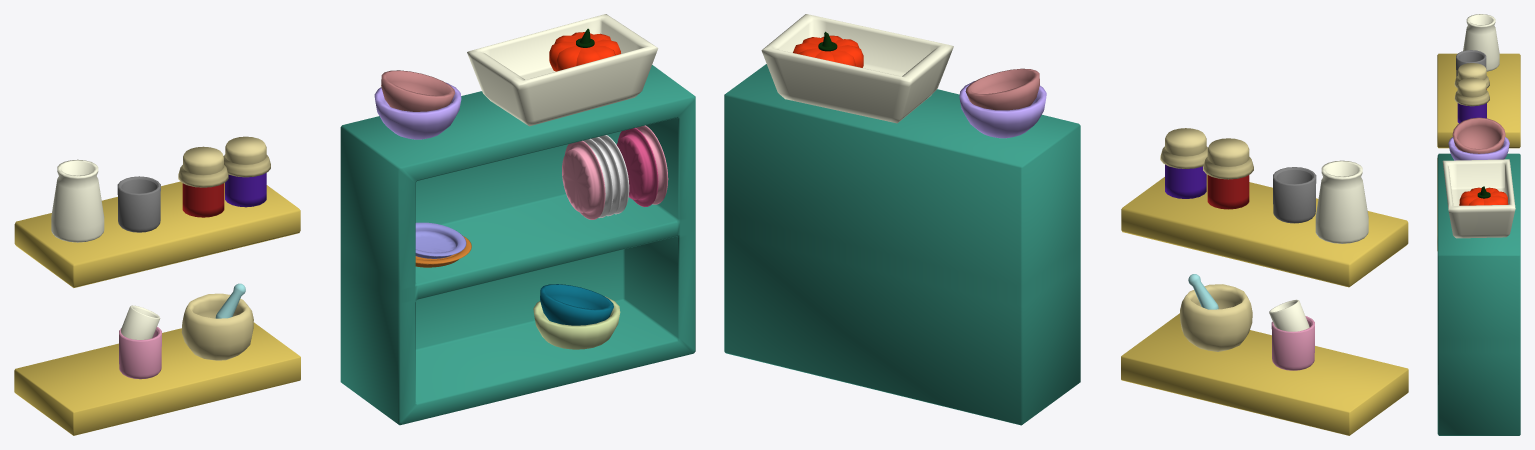
Rendered from wall cupboard.fbx.
The picture shows the model from 3 angles, left to right: view 1: azimuth 30°, elevation 25°; view 2: azimuth 150°, elevation 25°; view 3: azimuth 270°, elevation 25°; orthographic projection. The views are drawn at different scales.
Visible parts, largest first — view 1: Box014, Box008, Box001, Box103, Cylinder017, Cylinder109, Cylinder062, Sphere004, Sphere022, Sphere003, Cylinder073, Cylinder056 (+12 smaller); view 2: Box014, Box008, Box001, Box103, Cylinder017, Cylinder109, Sphere004, Sphere003, Cylinder073, Cylinder110, Cylinder108, Cylinder106 (+3 smaller); view 3: Box014, Box103, Box001, Sphere004, Cylinder017, Cylinder106, Sphere003, Cylinder108, Cylinder073, Cylinder018, Cylinder124, Cylinder121 (+2 smaller).
Boxes of the visible parts, x1,y1,x2,y2 form: Box014: [340, 65, 695, 425]; Box008: [14, 322, 300, 435]; Box001: [14, 181, 300, 287]; Box103: [467, 14, 658, 126]; Cylinder017: [51, 159, 104, 242]; Cylinder109: [181, 293, 253, 360]; Cylinder062: [562, 140, 605, 219]; Sphere004: [381, 70, 454, 111]; Sphere022: [540, 284, 613, 325]; Sphere003: [374, 82, 461, 139]; Cylinder073: [117, 176, 160, 232]; Cylinder056: [616, 127, 658, 206]; Box014: [724, 64, 1080, 425]; Box008: [1121, 313, 1408, 435]; Box001: [1121, 174, 1408, 287]; Box103: [761, 14, 953, 123]; Cylinder017: [1315, 160, 1368, 243]; Cylinder109: [1180, 284, 1252, 351]; Sphere004: [965, 68, 1039, 110]; Sphere003: [959, 81, 1046, 138]; Cylinder073: [1273, 167, 1316, 223]; Cylinder110: [1271, 316, 1314, 370]; Cylinder108: [1203, 138, 1253, 179]; Cylinder106: [1160, 128, 1207, 168]; Box014: [1437, 153, 1520, 435]; Box103: [1442, 159, 1515, 238]; Box001: [1437, 53, 1520, 148]; Sphere004: [1452, 117, 1505, 153]; Cylinder017: [1463, 14, 1499, 71]; Cylinder106: [1454, 77, 1489, 106]; Sphere003: [1448, 137, 1509, 160]; Cylinder108: [1454, 63, 1489, 88]; Cylinder073: [1456, 50, 1486, 76]; Cylinder018: [1457, 103, 1486, 123]; Cylinder124: [1459, 195, 1478, 205]; Cylinder121: [1489, 195, 1508, 204].
Bounding box in the file's own units: 58.4 × 28.61 × 9.62.
